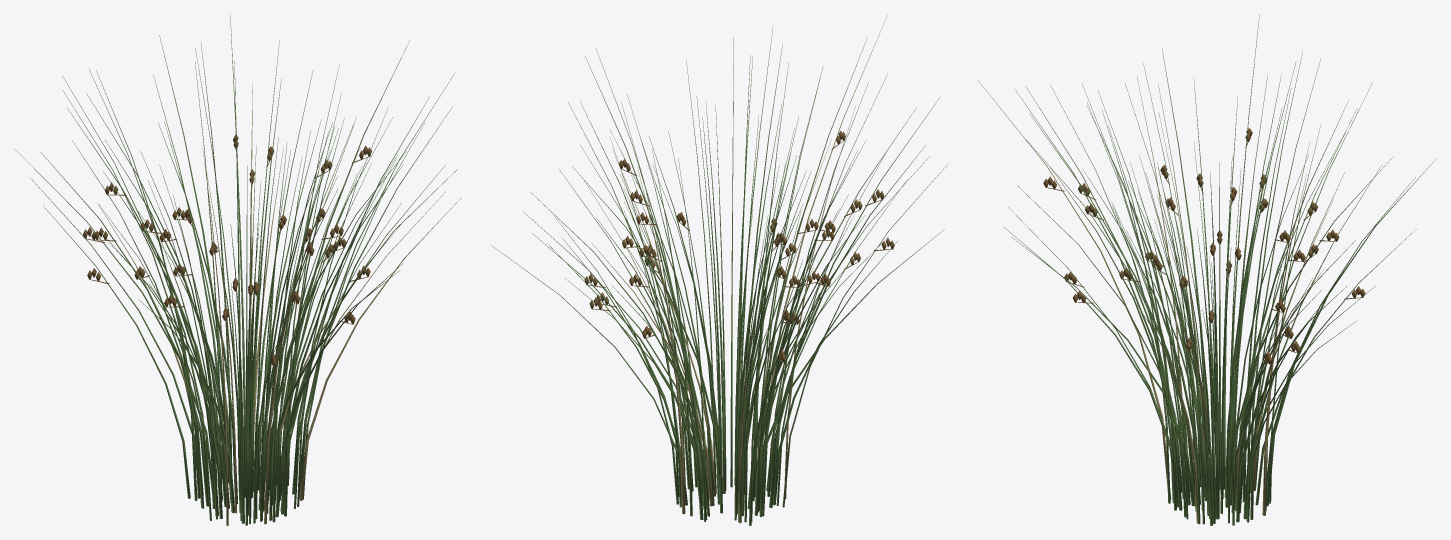
The model's file is Woodland_Rush_Clump_02_LOD0.fbx.
3 renders of one model, left to right at view 1: azimuth 30°, elevation 25°; view 2: azimuth 150°, elevation 25°; view 3: azimuth 270°, elevation 25°, orthographic. The views are drawn at different scales.
Visible parts, largest first — view 1: Woodland_Rush_Clump_02_LOD0_Foliage; view 2: Woodland_Rush_Clump_02_LOD0_Foliage; view 3: Woodland_Rush_Clump_02_LOD0_Foliage.
Boxes of the visible parts, x1=… form: Woodland_Rush_Clump_02_LOD0_Foliage: x1=15, y1=14, x2=461, y2=525; Woodland_Rush_Clump_02_LOD0_Foliage: x1=491, y1=14, x2=948, y2=525; Woodland_Rush_Clump_02_LOD0_Foliage: x1=978, y1=14, x2=1436, y2=525.
Bounding box in the file's own units: 99.48 × 110 × 110.
